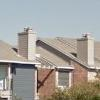Chimney: (13, 22, 41, 62)
